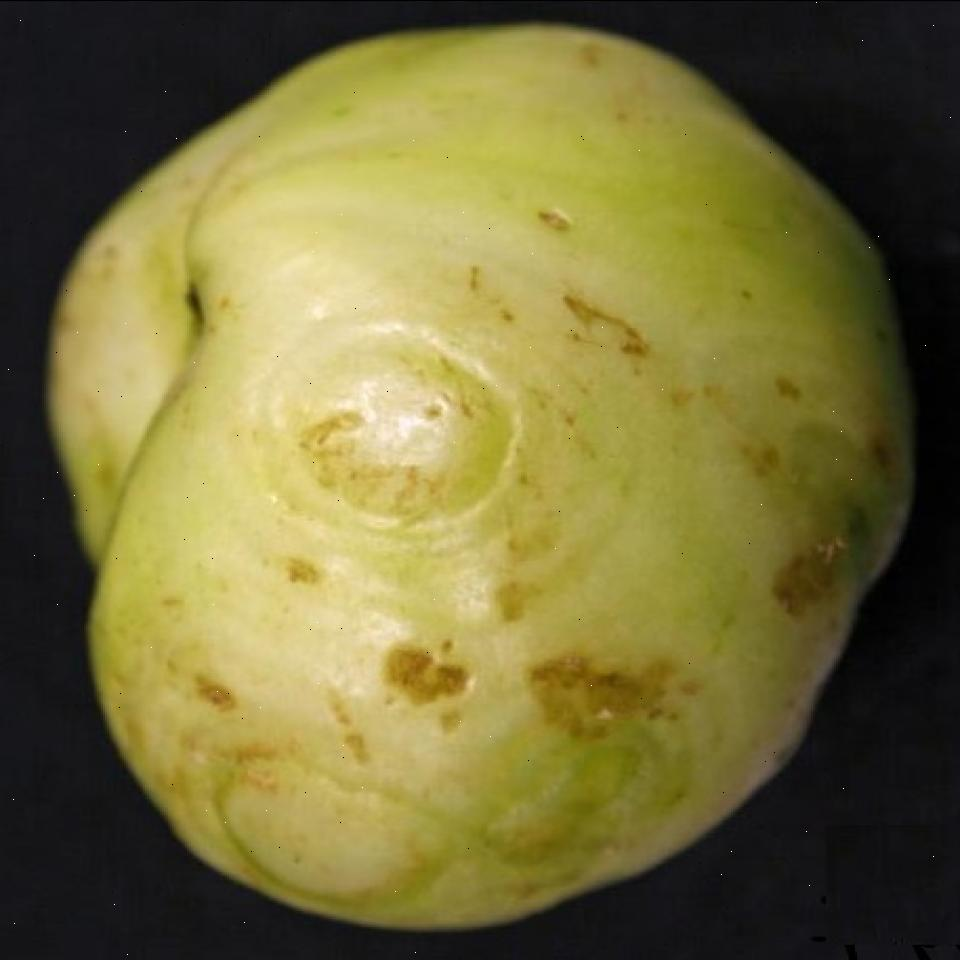Spotted wilt Virus: (44, 23, 916, 928)
